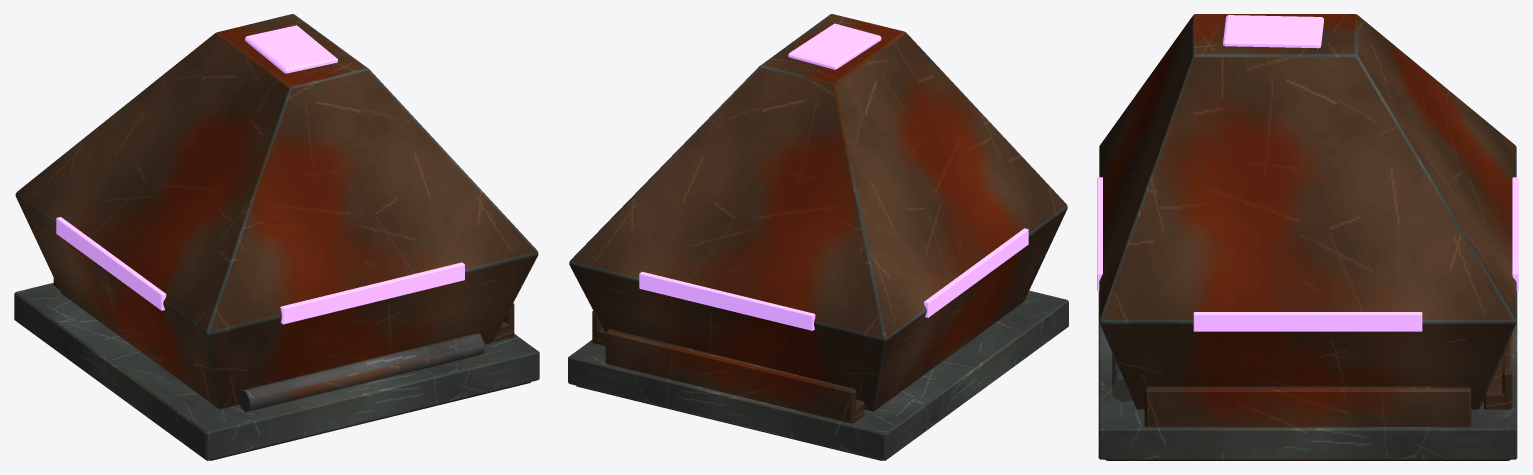
File: R4X_Stealth.glb
The picture shows the model from 3 angles, left to right: view 1: azimuth 30°, elevation 25°; view 2: azimuth 150°, elevation 25°; view 3: azimuth 270°, elevation 25°; orthographic projection. The views are drawn at different scales.
Visible parts, largest first — view 1: R4X_Stealth_Body; view 2: R4X_Stealth_Body; view 3: R4X_Stealth_Body.
Part boxes in pixels (x1=…): R4X_Stealth_Body: x1=14, y1=14, x2=539, y2=460; R4X_Stealth_Body: x1=568, y1=14, x2=1068, y2=460; R4X_Stealth_Body: x1=1097, y1=14, x2=1518, y2=460.
Size of the model in its own units: 0.516 by 0.466 by 0.516.
4 materials, 3 textured.
